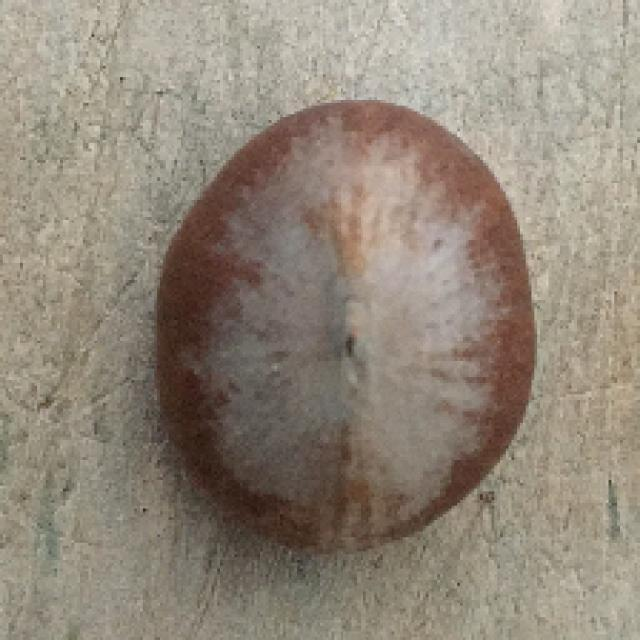qualityHazelnut: (136, 84, 542, 561)
